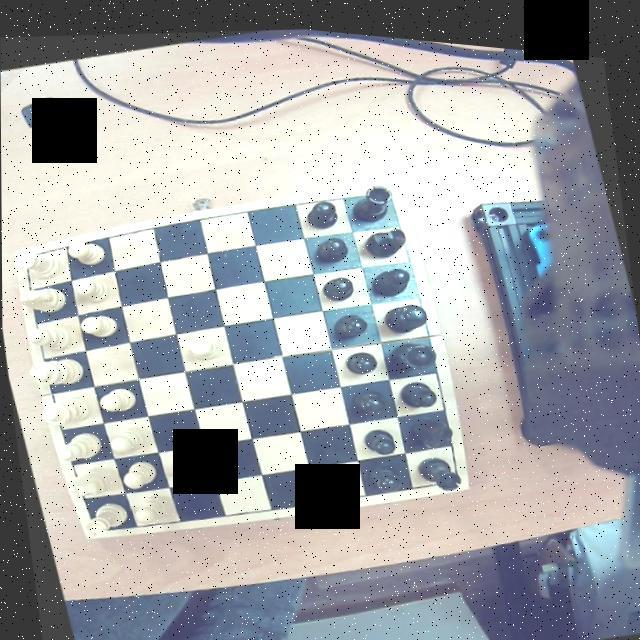chess-table-corners: (372, 174, 401, 203), (441, 454, 469, 482), (80, 516, 112, 538), (12, 248, 38, 274)
